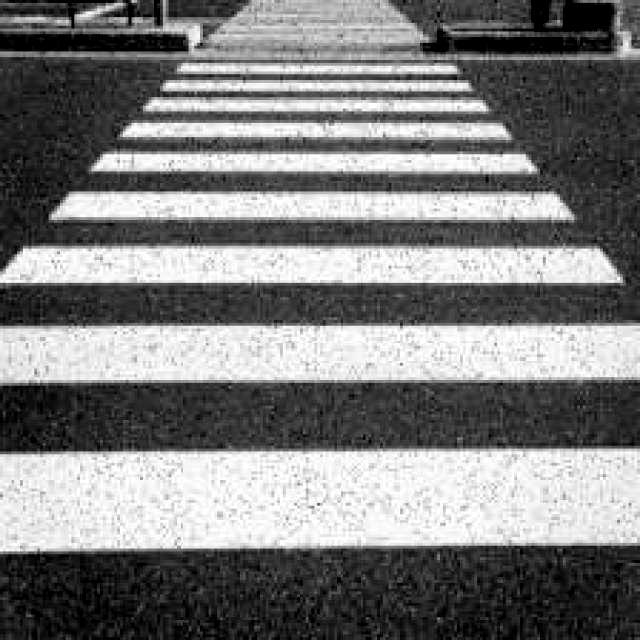crosswalk: (0, 35, 639, 627)
